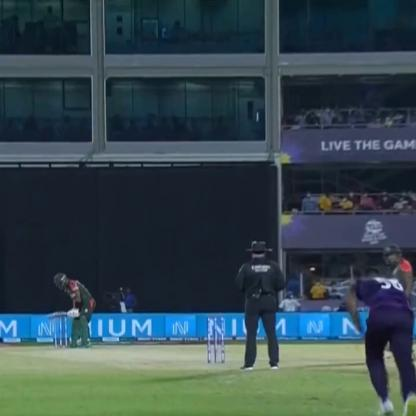pitch: (12, 331, 365, 367)
